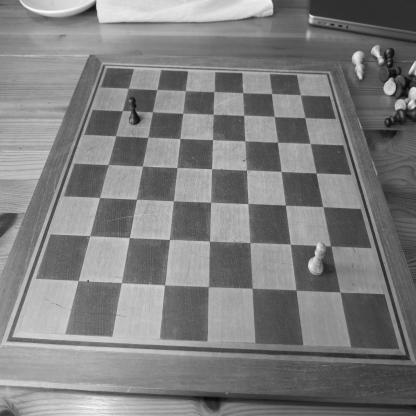black-pawn: (384, 109, 406, 127), (128, 96, 140, 125), (384, 47, 395, 68)
white-bishop: (351, 50, 366, 82)
white-pawn: (308, 242, 326, 276), (370, 44, 385, 66)
